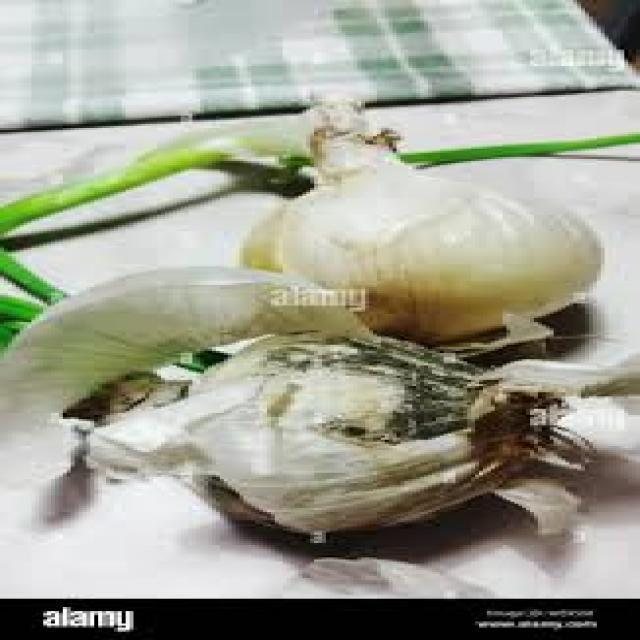Onion: (0, 129, 640, 373), (185, 330, 640, 565), (2, 263, 379, 486), (242, 135, 605, 343)
